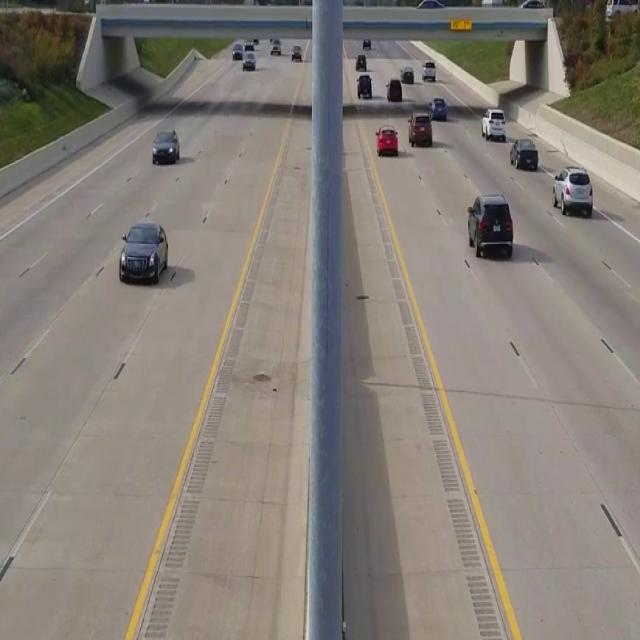car: (119, 220, 168, 284), (467, 194, 513, 258), (551, 166, 593, 217), (509, 136, 538, 170), (152, 128, 179, 164), (408, 112, 432, 146), (481, 108, 506, 140), (375, 126, 398, 155)
